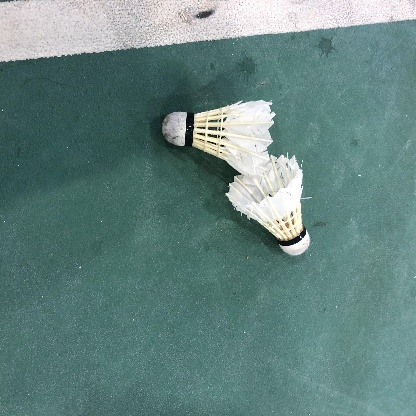ball_single: (225, 155, 310, 255), (162, 100, 275, 175)
